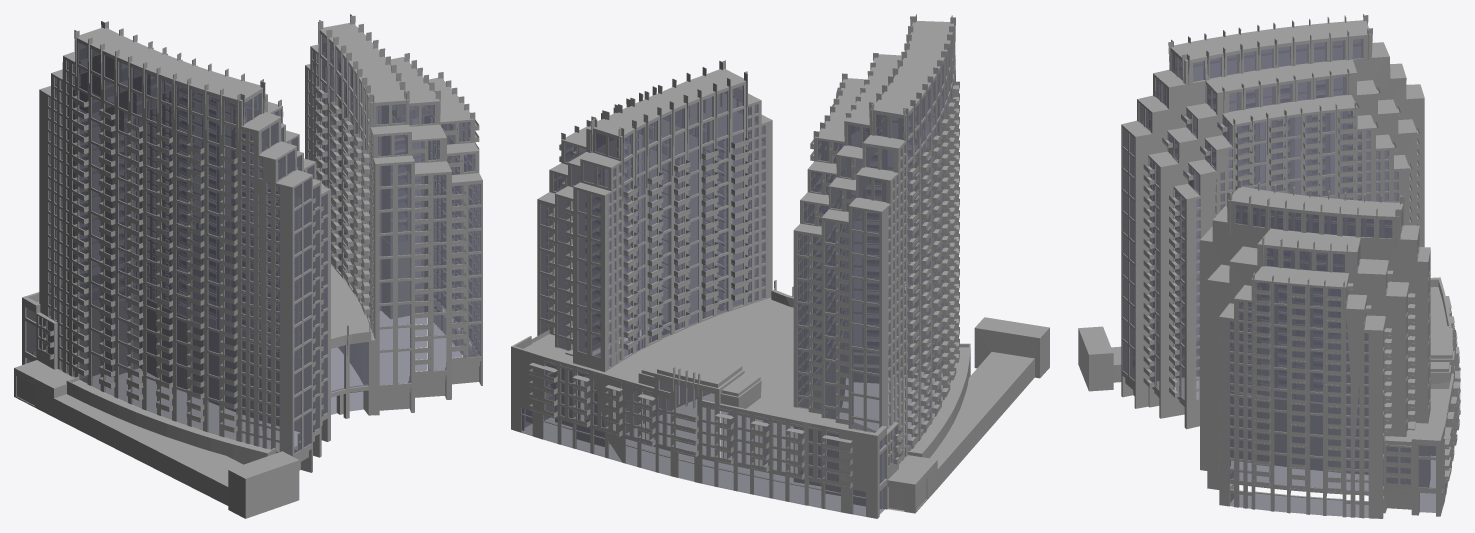
Rendered from building_05.fbx.
The picture shows the model from 3 angles, left to right: view 1: azimuth 30°, elevation 25°; view 2: azimuth 150°, elevation 25°; view 3: azimuth 270°, elevation 25°; orthographic projection. The views are drawn at different scales.
Parts seen in each view (by area): view 1: SP1, SP1_widowglass, SP2, SP2_widowglass, SPb, SP1_balcony_cover, SP2_balcony_cover, decorative_elements, SPb_windowglass; view 2: SP1, SPb, SP2, SP2_widowglass, SP1_widowglass, SPb_windowglass, SP1_balcony_cover, SP2_balcony_cover, decorative_elements, SPb_balcony_cover, SPb_column; view 3: SP2, SP1, SP2_widowglass, SP1_widowglass, SPb, SP2_balcony_cover, SP1_balcony_cover, decorative_elements, SPb_windowglass, SPb_balcony_cover, SPb_column.
Part boxes in pixels (x1,y1,x2,y2): SP1: [39, 27, 330, 472]; SP1_widowglass: [49, 43, 327, 453]; SP2: [305, 23, 482, 415]; SP2_widowglass: [308, 35, 481, 384]; SPb: [14, 234, 388, 518]; SP1_balcony_cover: [73, 95, 323, 435]; SP2_balcony_cover: [315, 86, 479, 375]; decorative_elements: [74, 14, 475, 355]; SPb_windowglass: [26, 308, 367, 414]; SP1: [793, 21, 970, 508]; SPb: [511, 290, 1049, 518]; SP2: [537, 69, 772, 446]; SP2_widowglass: [540, 85, 764, 367]; SP1_widowglass: [798, 49, 953, 456]; SPb_windowglass: [521, 364, 897, 516]; SP1_balcony_cover: [808, 81, 959, 444]; SP2_balcony_cover: [531, 138, 748, 348]; decorative_elements: [561, 14, 955, 408]; SPb_balcony_cover: [529, 368, 902, 487]; SPb_column: [529, 362, 852, 473]; SP2: [1200, 186, 1430, 518]; SP1: [1121, 20, 1424, 429]; SP2_widowglass: [1230, 205, 1429, 517]; SP1_widowglass: [1123, 39, 1398, 399]; SPb: [1078, 277, 1460, 516]; SP2_balcony_cover: [1209, 254, 1415, 491]; SP1_balcony_cover: [1143, 86, 1419, 396]; decorative_elements: [1168, 14, 1455, 370]; SPb_windowglass: [1386, 445, 1450, 512]; SPb_balcony_cover: [1384, 308, 1460, 487]; SPb_column: [1398, 296, 1459, 484].
Bounding box in the file's own units: 106047 × 97196 × 96641.
